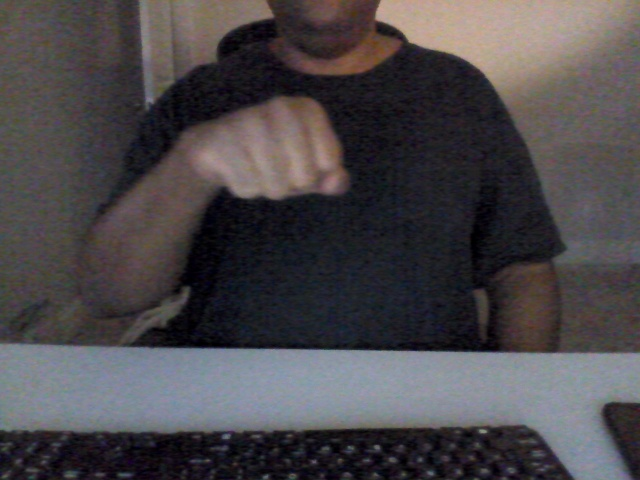yes: (177, 91, 352, 200)
